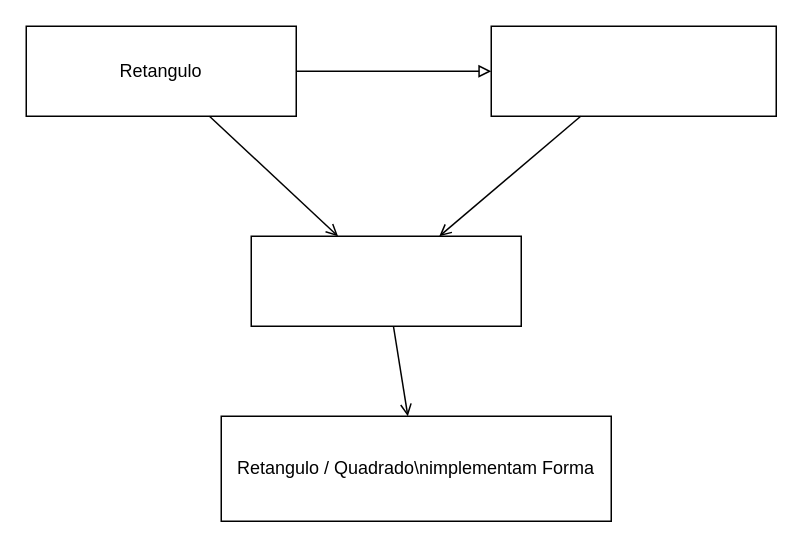
Image size: 803x548. Some labels were removed from this diagram. Here are the shapes that lost their labels. From the top down, the box of each, then its label:
(490, 25, 776, 116): Quadrado\n(violação)
(250, 235, 521, 326): Forma\narea()
